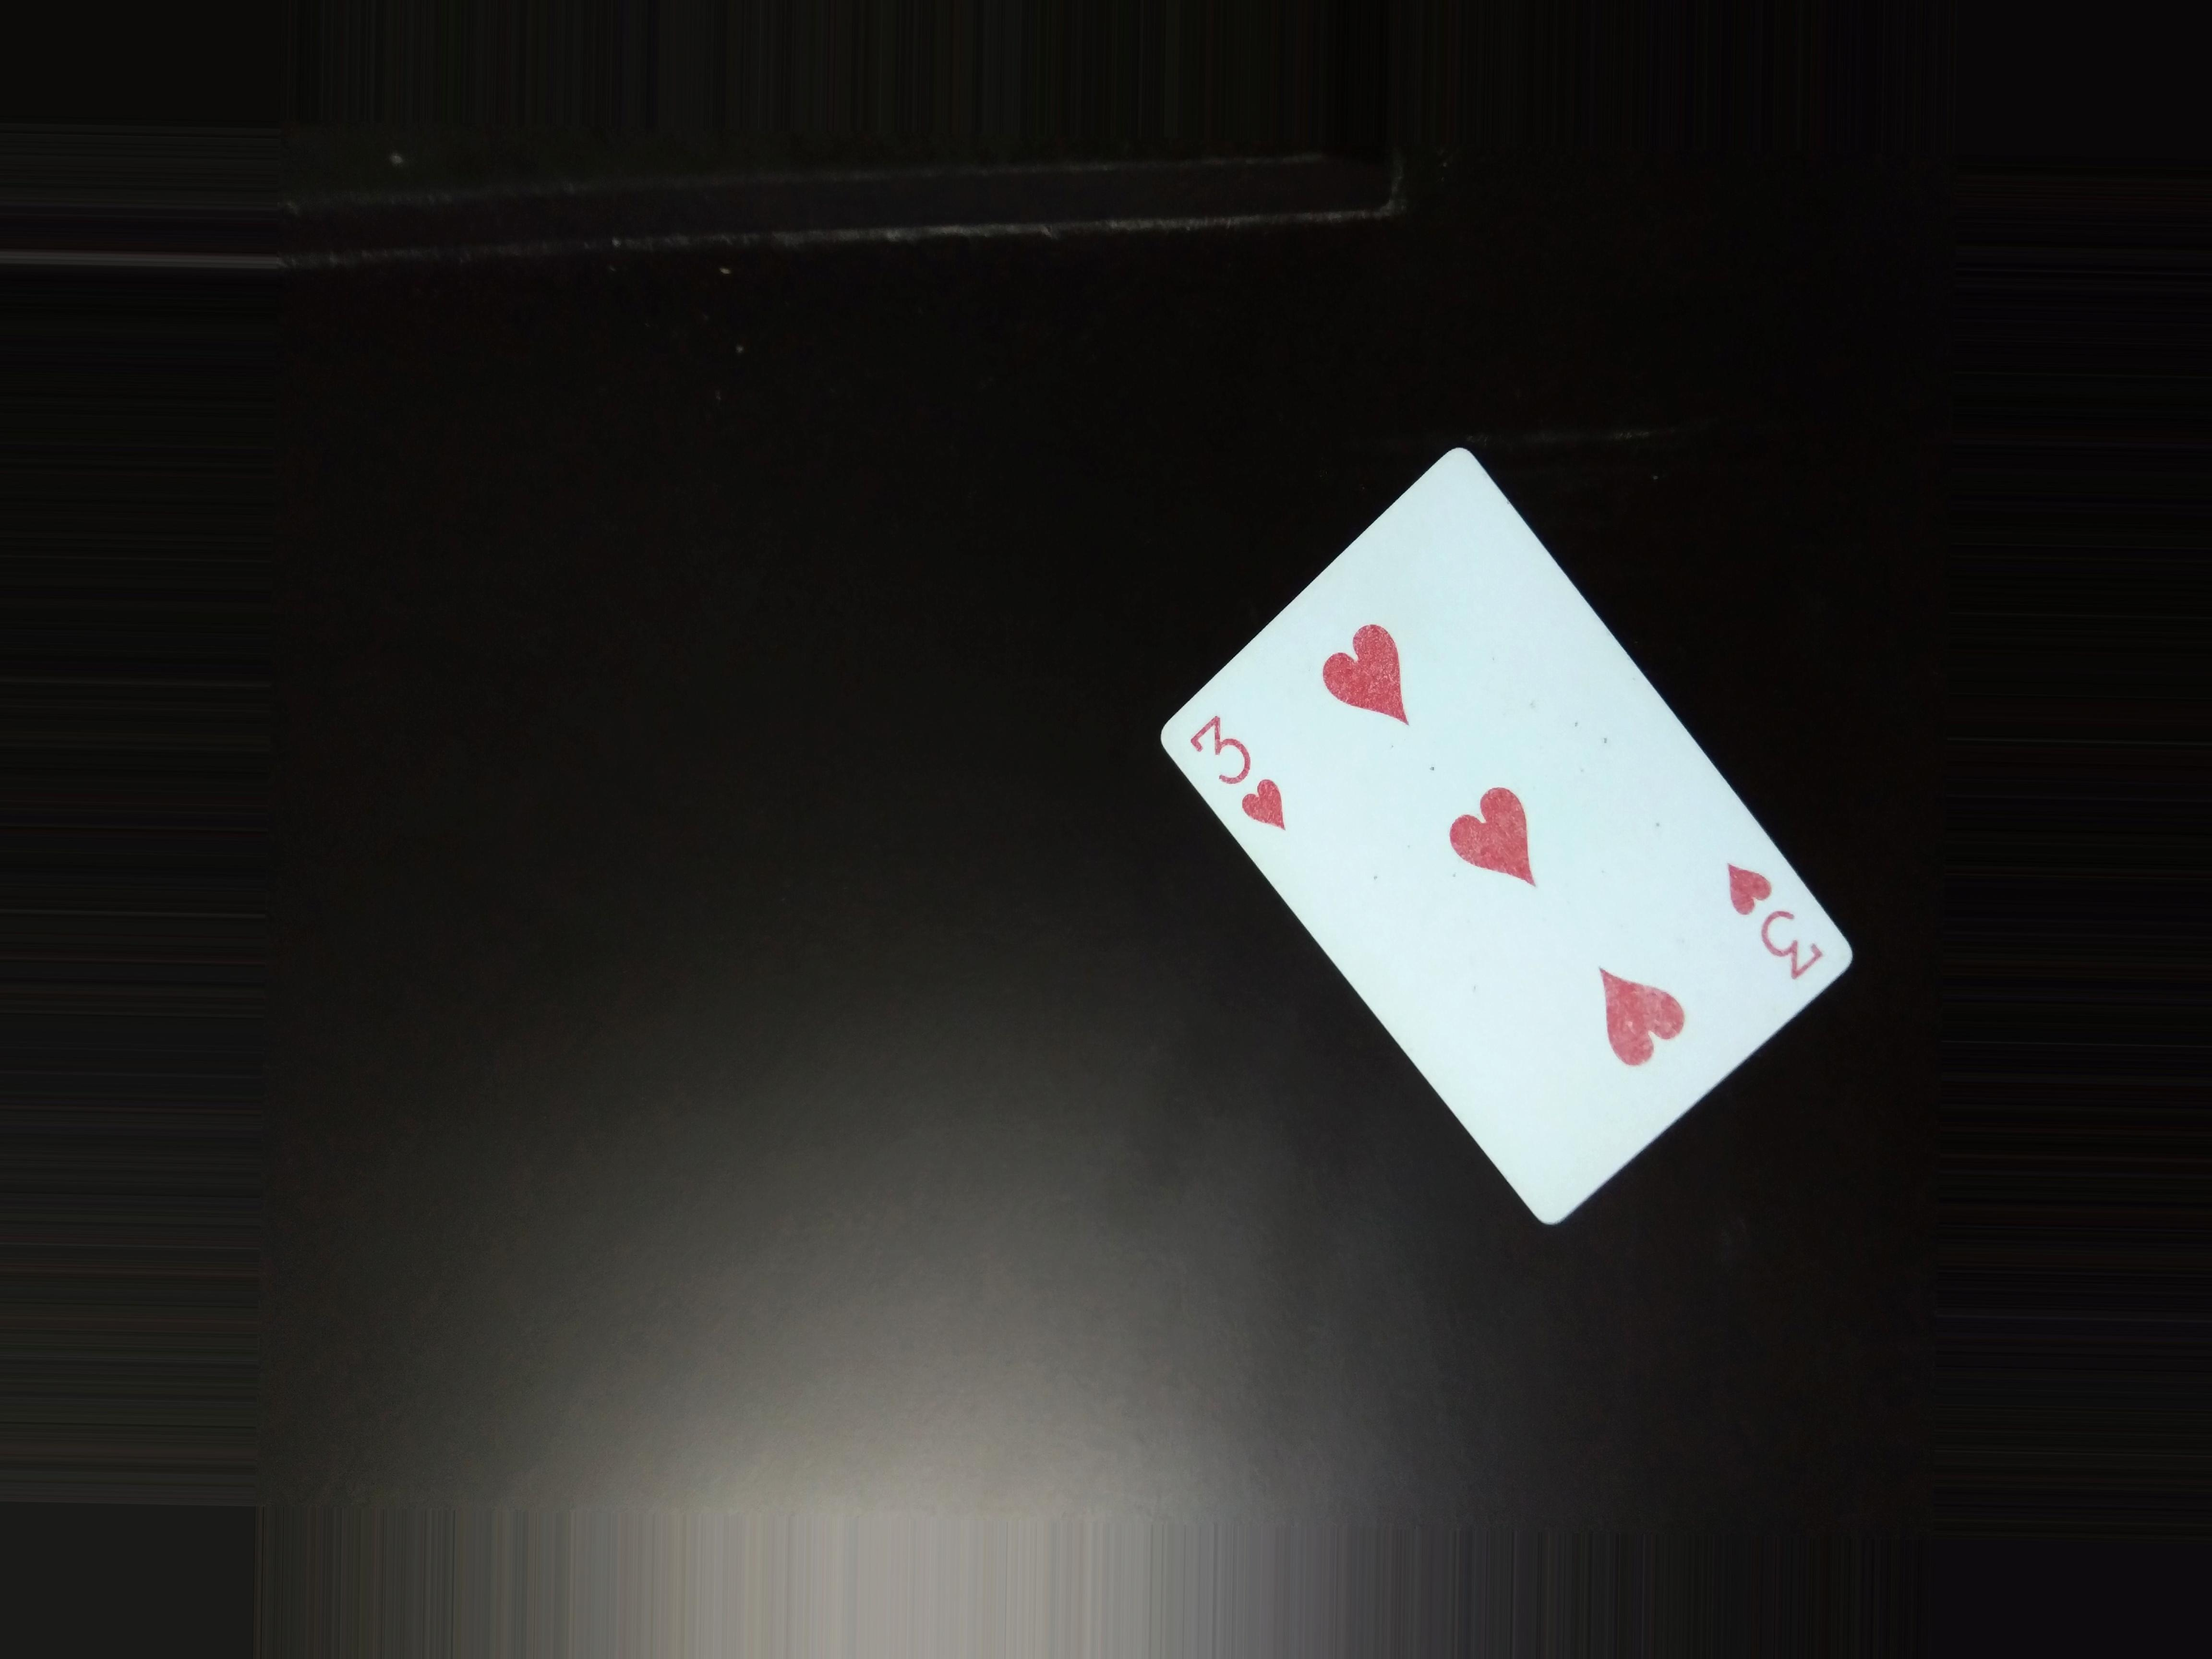3H: (1172, 701, 1296, 835)
